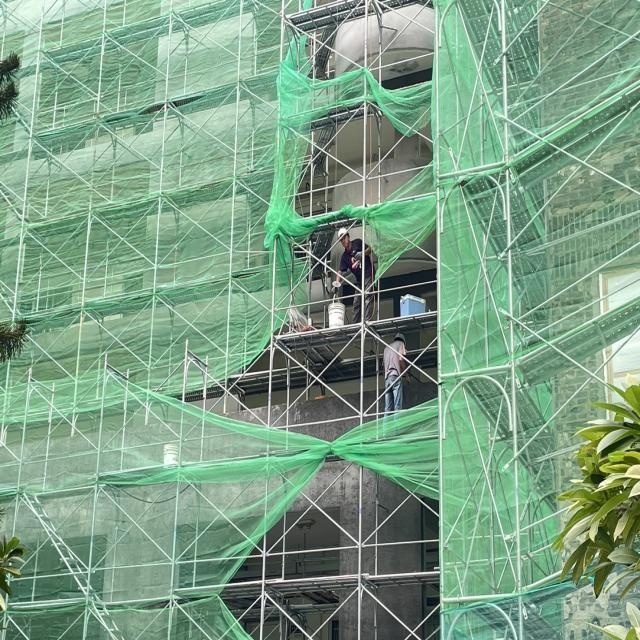Con_Casco: (337, 228, 350, 240)
